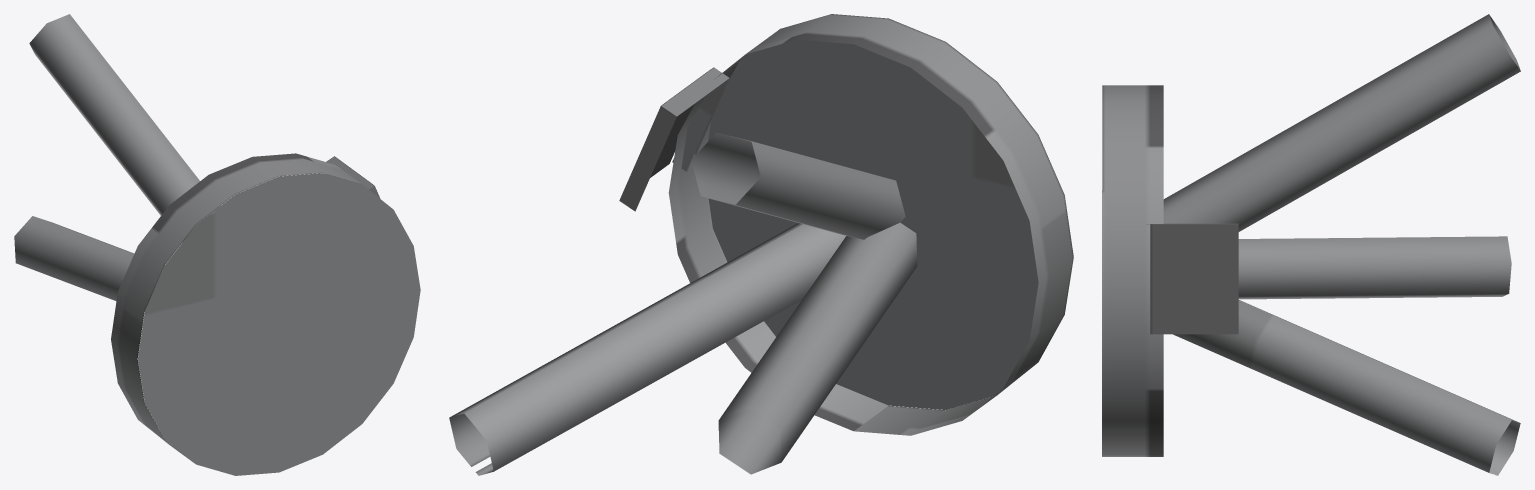
The picture shows the model from 3 angles, left to right: view 1: azimuth 30°, elevation 25°; view 2: azimuth 150°, elevation 25°; view 3: azimuth 270°, elevation 25°; orthographic projection. The views are drawn at different scales.
Bounding box in the file's own units: 0.4594 × 0.4926 × 0.4755.
